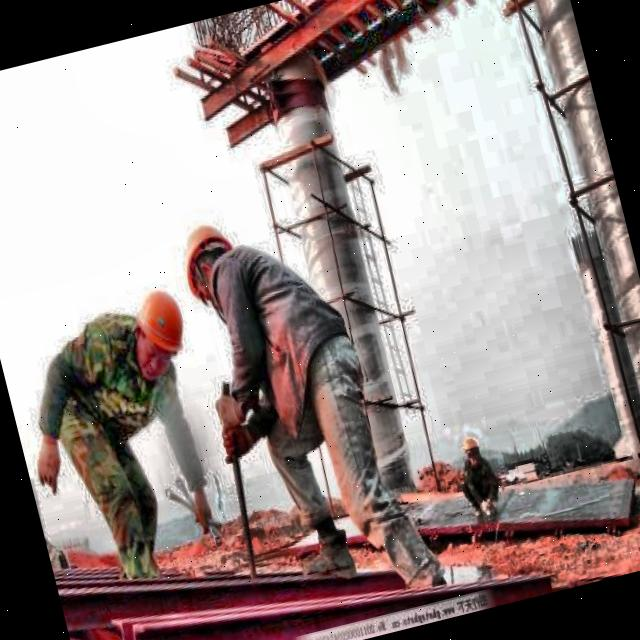helmet: (168, 215, 252, 327), (121, 276, 202, 382), (458, 432, 488, 469)
